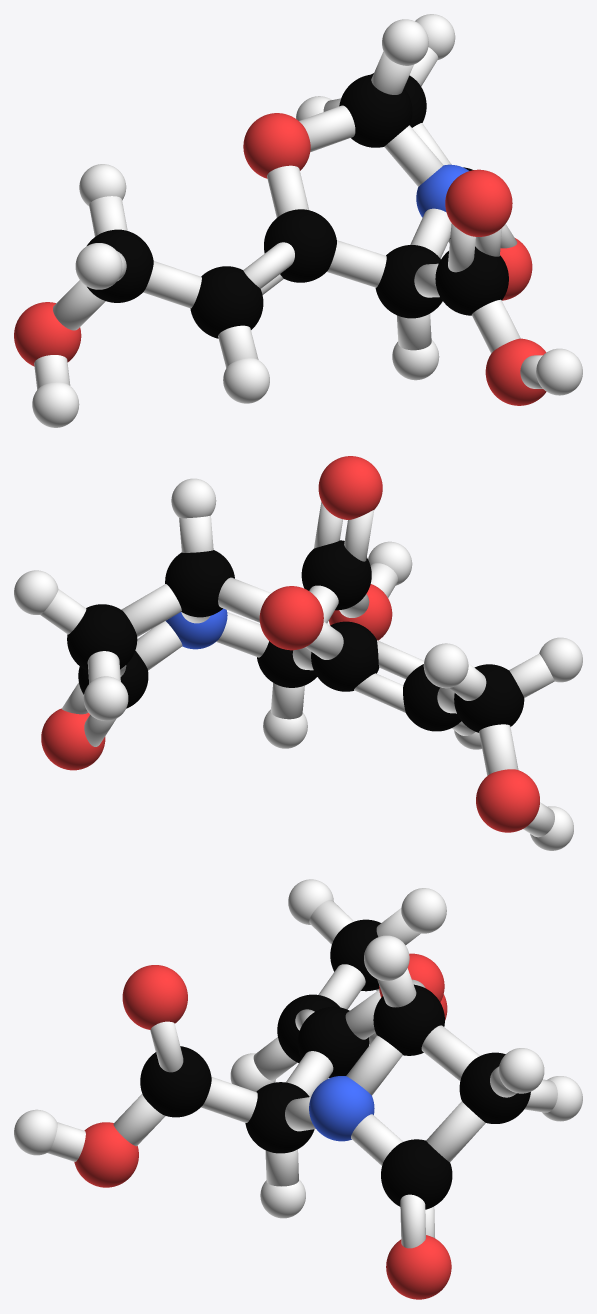
The picture shows the model from 3 angles, top to bottom: view 1: azimuth 30°, elevation 25°; view 2: azimuth 150°, elevation 25°; view 3: azimuth 270°, elevation 25°; orthographic projection. The views are drawn at different scales.
Parts seen in each view (by area): view 1: molecule; view 2: molecule; view 3: molecule.
Part boxes in pixels (x1,y1,x2,y2): molecule: (14, 14, 582, 427); molecule: (14, 456, 582, 850); molecule: (14, 879, 582, 1299).
Bounding box in the file's own units: 7.7 × 4.45 × 7.47.
